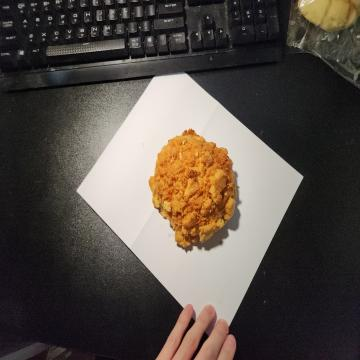soboru_bread: (147, 129, 238, 251)
